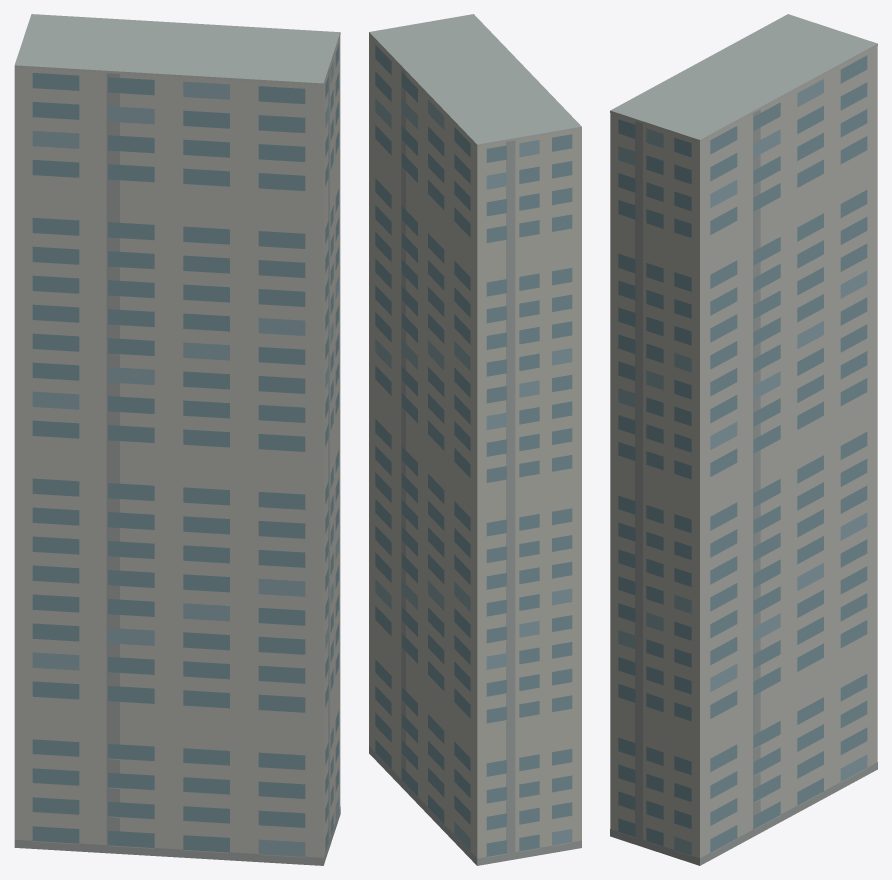
File: residential-22d91ac2-04f3-494e-a3f2-81f3b39e9241.glb
3 views of the same model, side by side, from view 1: azimuth 30°, elevation 25°; view 2: azimuth 150°, elevation 25°; view 3: azimuth 270°, elevation 25° (orthographic). The views are drawn at different scales.
Parts seen in each view (by area): view 1: residential-22d91ac2-04f3-494e-a3f2-81f3b39e9241.tmp; view 2: residential-22d91ac2-04f3-494e-a3f2-81f3b39e9241.tmp; view 3: residential-22d91ac2-04f3-494e-a3f2-81f3b39e9241.tmp.
Part boxes in pixels (x1,y1,x2,y2): residential-22d91ac2-04f3-494e-a3f2-81f3b39e9241.tmp: [14, 14, 340, 865]; residential-22d91ac2-04f3-494e-a3f2-81f3b39e9241.tmp: [369, 14, 581, 865]; residential-22d91ac2-04f3-494e-a3f2-81f3b39e9241.tmp: [610, 14, 877, 865].
Bounding box in the file's own units: 28.68 × 77 × 25.74.
